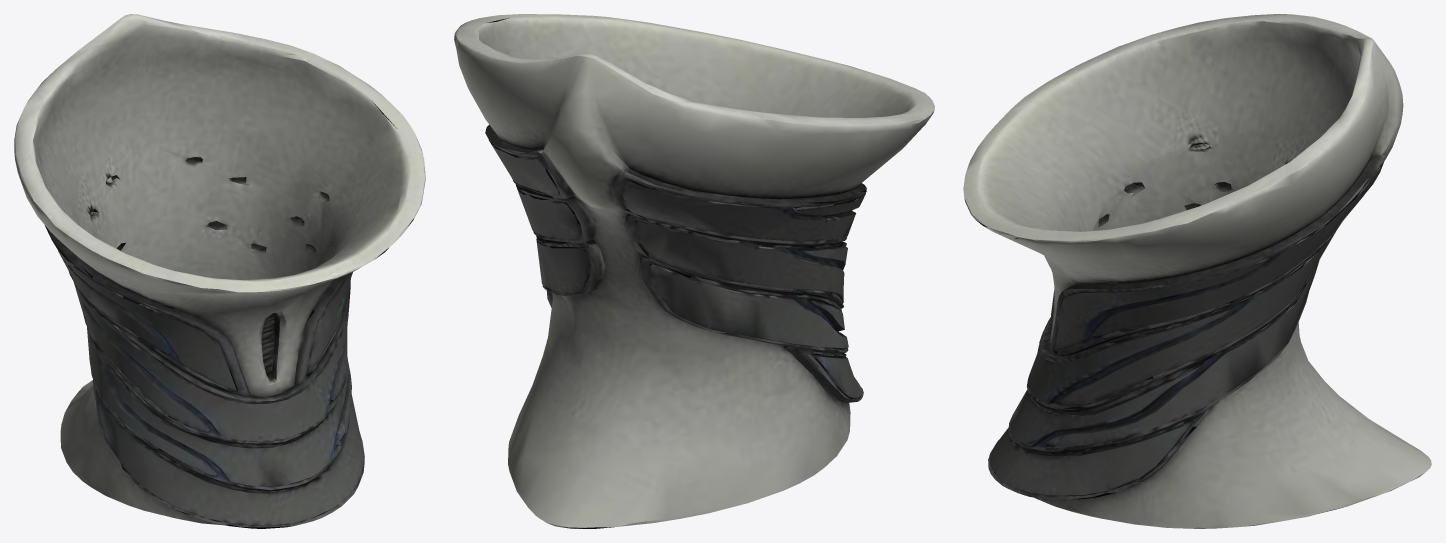
Rendered from font.glb.
3 renders of one model, left to right at view 1: azimuth 30°, elevation 25°; view 2: azimuth 150°, elevation 25°; view 3: azimuth 270°, elevation 25°, orthographic. The views are drawn at different scales.
Visible parts, largest first — view 1: font; view 2: font; view 3: font.
Boxes of the visible parts, x1=… form: font: x1=14, y1=14, x2=425, y2=528; font: x1=454, y1=14, x2=934, y2=528; font: x1=963, y1=14, x2=1431, y2=528.
Bounding box in the file's own units: 0.9998 × 0.9999 × 1.
Materials: 1 (1 with a texture image).
